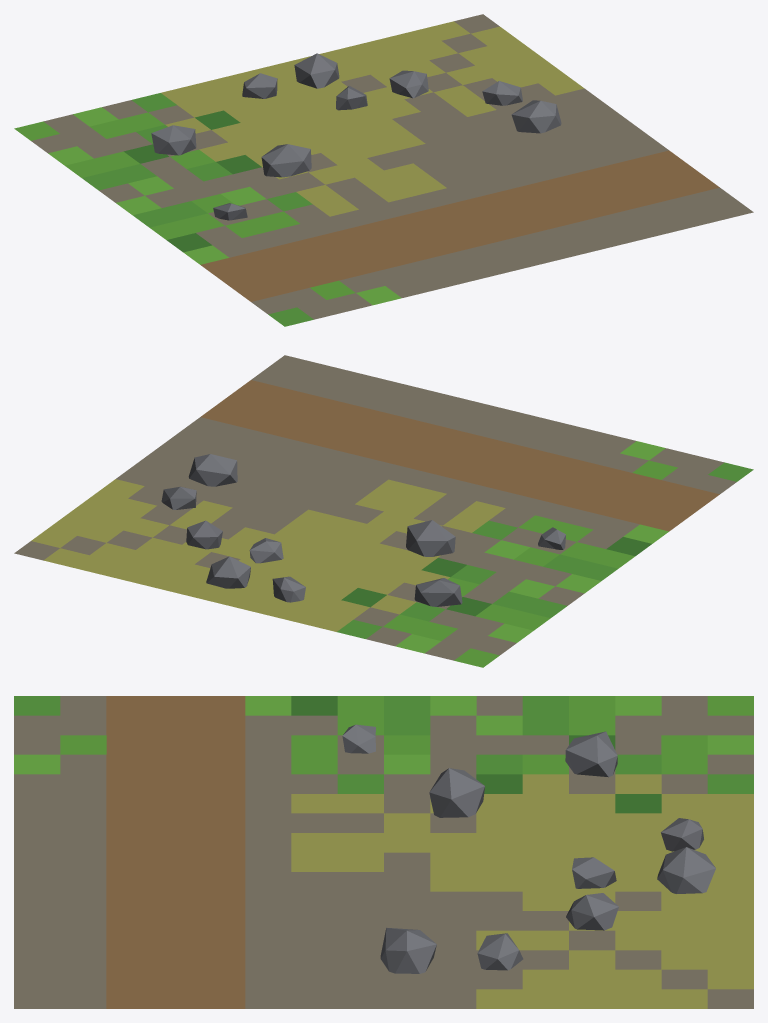
Rendered from chunk_8_17.glb.
3 views of the same model, one above another, from view 1: azimuth 30°, elevation 25°; view 2: azimuth 150°, elevation 25°; view 3: azimuth 270°, elevation 25° (orthographic). The views are drawn at different scales.
Visible parts, largest first — view 1: chunk_8_17; view 2: chunk_8_17; view 3: chunk_8_17.
Boxes of the visible parts, x1,y1,x2,y2 form: chunk_8_17: (14, 14, 753, 326); chunk_8_17: (14, 355, 753, 667); chunk_8_17: (14, 696, 753, 1008).
Bounding box in the file's own units: 16 × 1.37 × 16.
